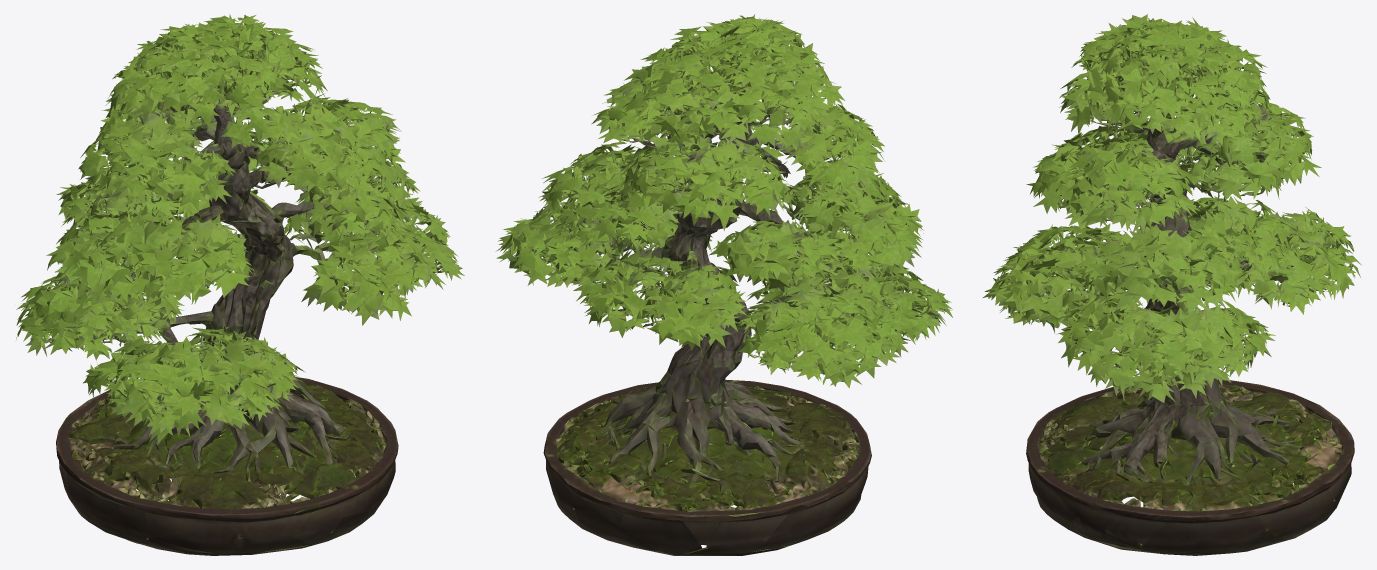
The model's file is maple2.glb.
The picture shows the model from 3 angles, left to right: view 1: azimuth 30°, elevation 25°; view 2: azimuth 150°, elevation 25°; view 3: azimuth 270°, elevation 25°; orthographic projection. The views are drawn at different scales.
Visible parts, largest first — view 1: Mesh_0; view 2: Mesh_0; view 3: Mesh_0.
Boxes of the visible parts, left/top/right/bottom form: Mesh_0: left=16, top=14, right=464, bottom=555; Mesh_0: left=495, top=14, right=952, bottom=555; Mesh_0: left=983, top=14, right=1361, bottom=555.
Size of the model in its own units: 1.69 by 1.91 by 1.42.
1 material, 1 textured.
